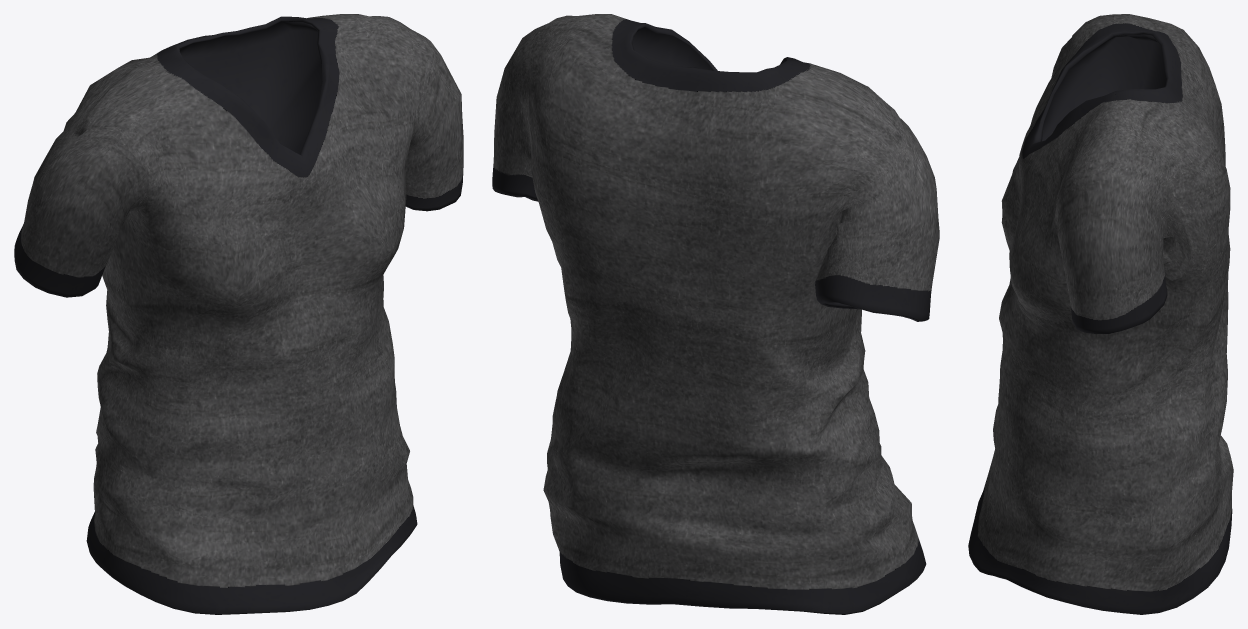
File: Torso.obj
The picture shows the model from 3 angles, left to right: view 1: azimuth 30°, elevation 25°; view 2: azimuth 150°, elevation 25°; view 3: azimuth 270°, elevation 25°; orthographic projection. The views are drawn at different scales.
Visible parts, largest first — view 1: Object_8; view 2: Object_8; view 3: Object_8.
Boxes of the visible parts, <box> form: Object_8: <box>14,14,463,614</box>; Object_8: <box>492,14,939,614</box>; Object_8: <box>968,14,1233,614</box>.
Bounding box in the file's own units: 0.9794 × 1.14 × 0.5505.
1 material, 1 textured.
